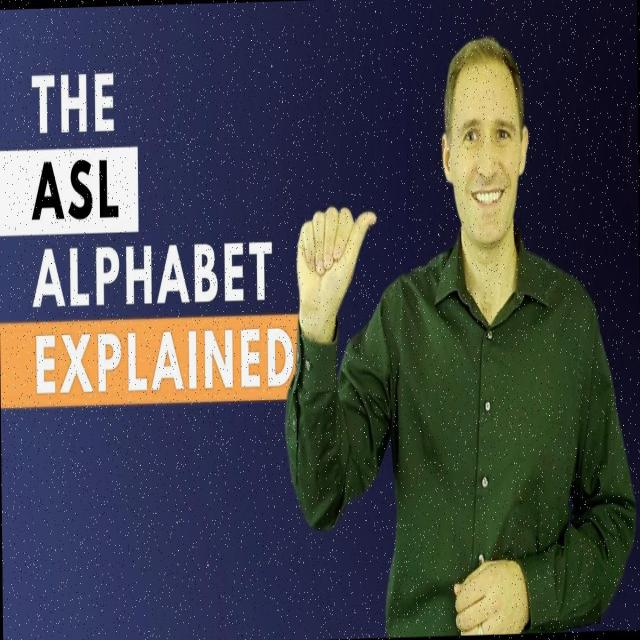A: (292, 202, 380, 320)
